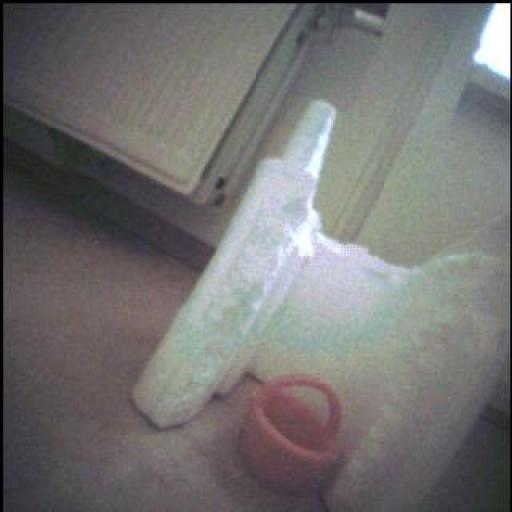Basket: (241, 375, 342, 494)
